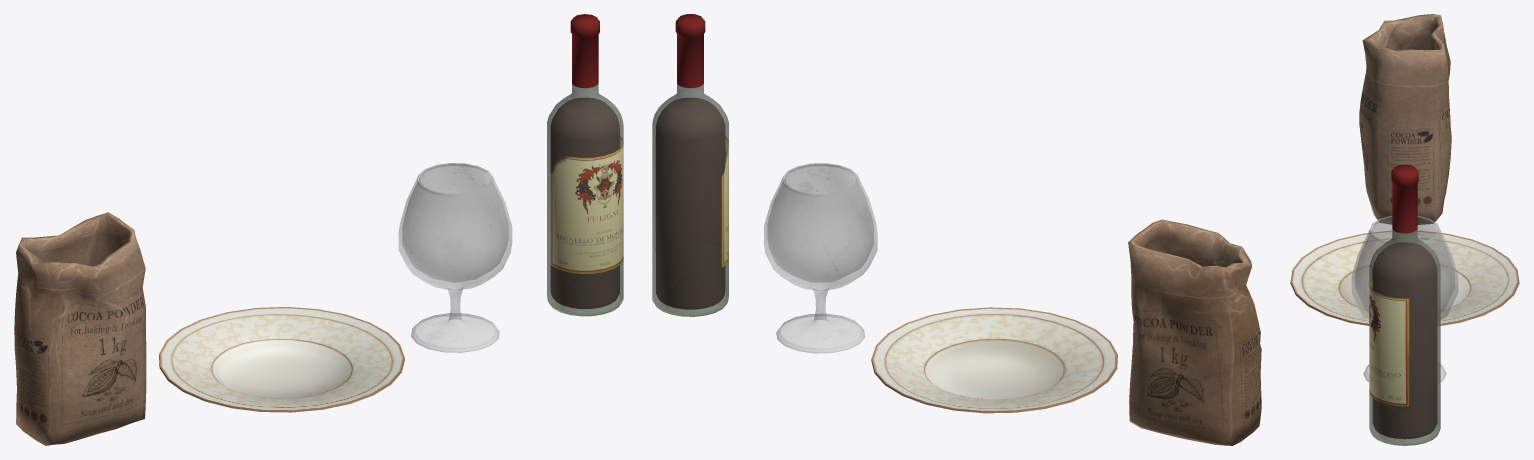
The model's file is kitchen_set_03.glb.
3 renders of one model, left to right at view 1: azimuth 30°, elevation 25°; view 2: azimuth 150°, elevation 25°; view 3: azimuth 270°, elevation 25°, orthographic. The views are drawn at different scales.
Parts seen in each view (by area): view 1: pouch, plate, bottle, glass; view 2: pouch, plate, bottle, glass; view 3: bottle, pouch, plate, glass.
Part boxes in pixels (<box>): pouch: <box>14,212,146,445</box>; plate: <box>159,307,404,412</box>; bottle: <box>547,14,623,316</box>; glass: <box>398,163,511,352</box>; pouch: <box>1128,219,1261,445</box>; plate: <box>871,307,1117,413</box>; bottle: <box>652,14,728,316</box>; glass: <box>764,163,877,353</box>; bottle: <box>1369,164,1440,445</box>; pouch: <box>1359,14,1451,224</box>; plate: <box>1290,230,1519,325</box>; glass: <box>1352,215,1457,383</box>.
Size of the model in its own units: 624 by 284 by 224.
Materials: 2 (2 with a texture image).
